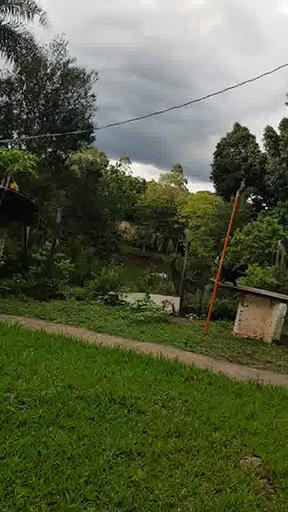Vara_Manobra: (204, 193, 240, 334)
